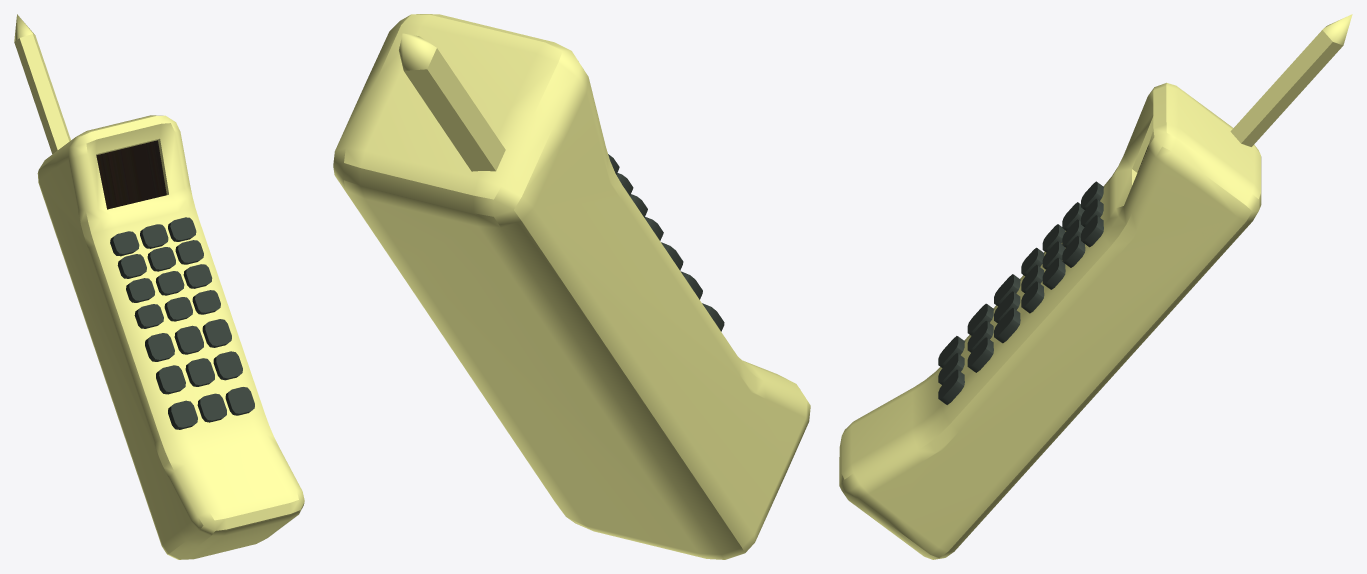
File: phne2.fbx
3 renders of one model, left to right at view 1: azimuth 30°, elevation 25°; view 2: azimuth 150°, elevation 25°; view 3: azimuth 270°, elevation 25°, orthographic. The views are drawn at different scales.
Visible parts, largest first — view 1: pCylinder4; view 2: pCylinder4; view 3: pCylinder4.
Boxes of the visible parts, x1,y1,x2,y2 form: pCylinder4: (14, 14, 304, 559); pCylinder4: (333, 14, 810, 559); pCylinder4: (839, 14, 1352, 559).
Size of the model in its own units: 3.91 by 14.1 by 12.96.
